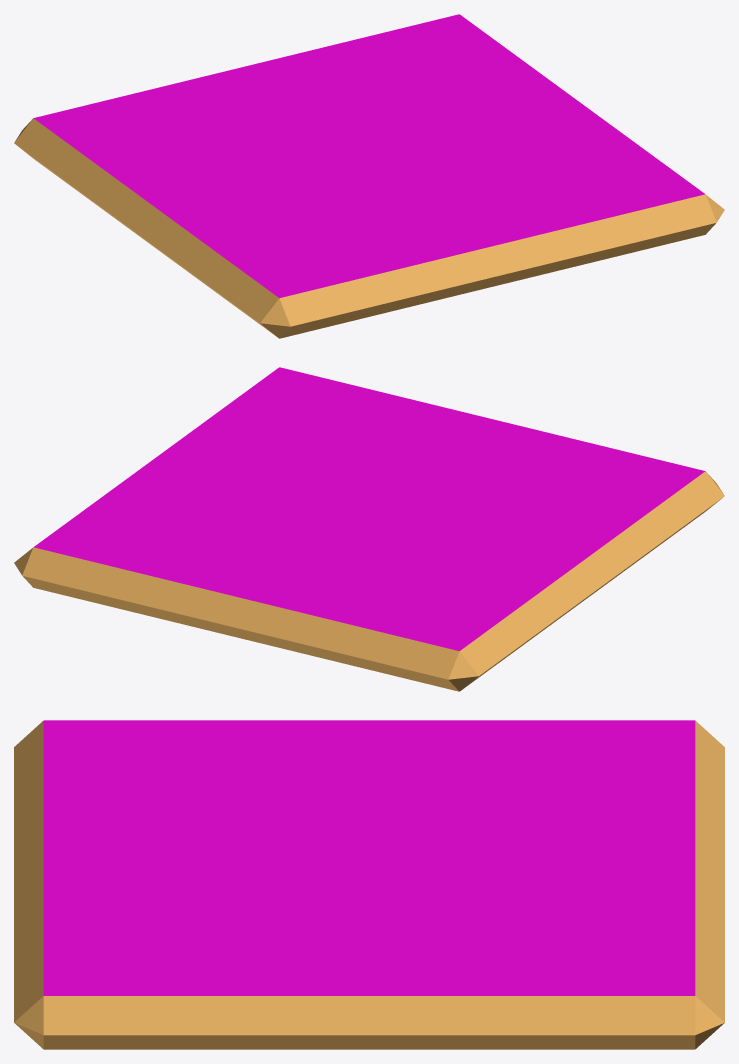
Rendered from Tile.gltf.
3 renders of one model, top to bottom at view 1: azimuth 30°, elevation 25°; view 2: azimuth 150°, elevation 25°; view 3: azimuth 270°, elevation 25°, orthographic. The views are drawn at different scales.
Parts seen in each view (by area): view 1: Plane; view 2: Plane; view 3: Plane.
Part boxes in pixels (bbox=[...]): Plane: bbox=[14, 14, 724, 338]; Plane: bbox=[14, 367, 724, 691]; Plane: bbox=[14, 720, 724, 1049].
Size of the model in its own units: 0.03 by 0.0025 by 0.03.
